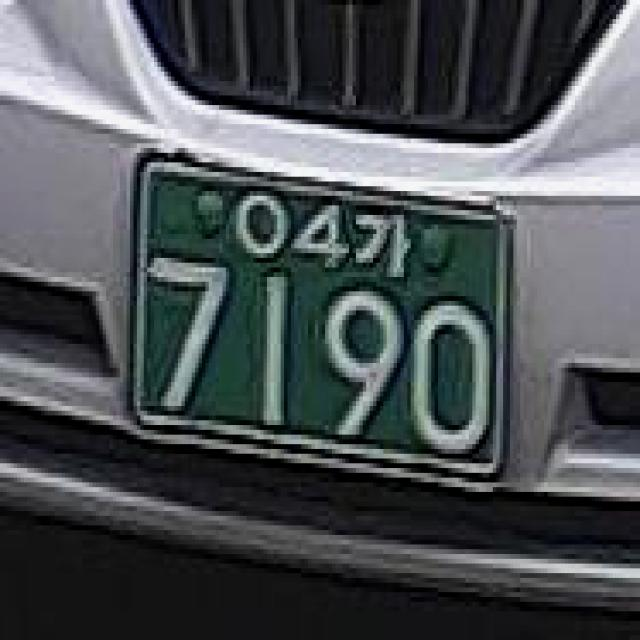illegal_plate: (104, 135, 532, 510)
